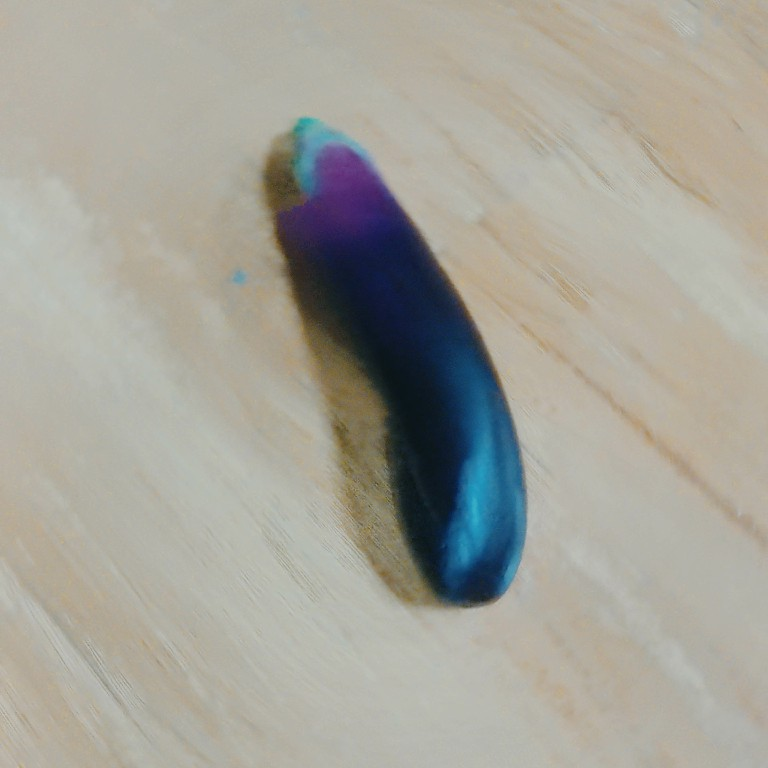fruit_eggplant: (268, 109, 542, 618)
